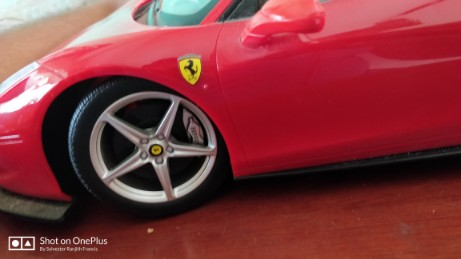unaligned_wheel: (34, 57, 226, 228)
